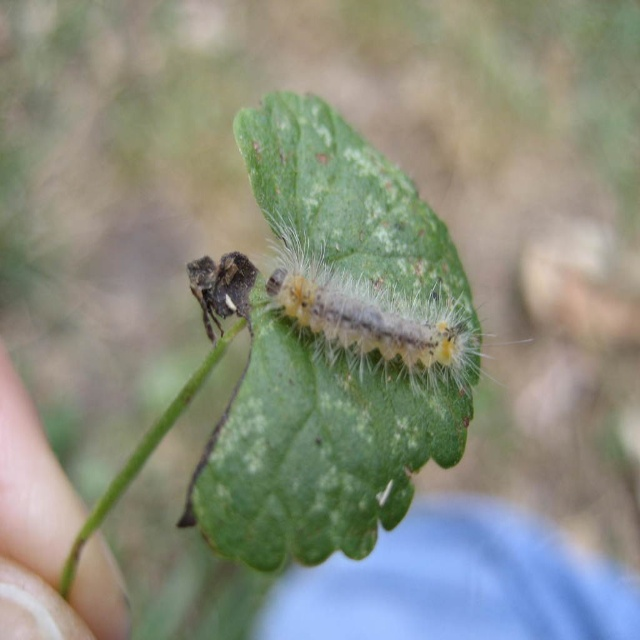Caterpillar: (249, 205, 532, 399)
